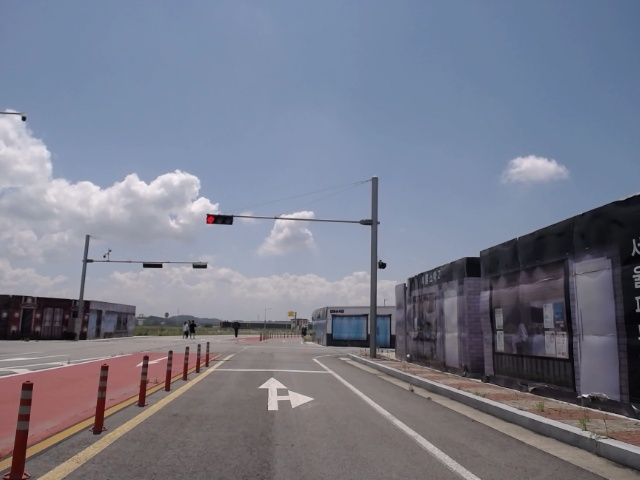red_3: (206, 213, 234, 227)
